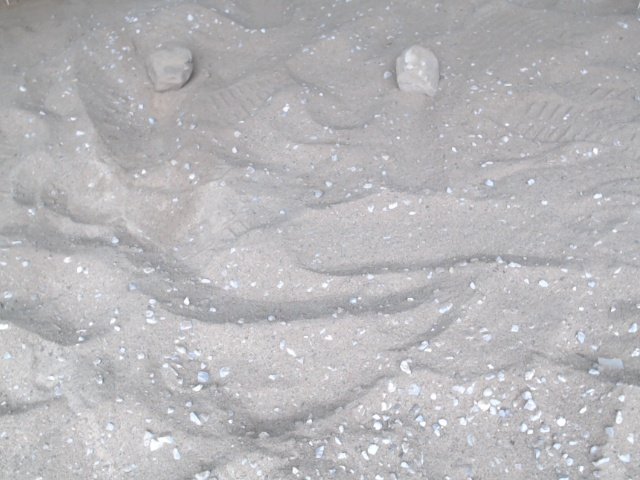rock: (142, 36, 197, 98), (389, 41, 445, 101)
